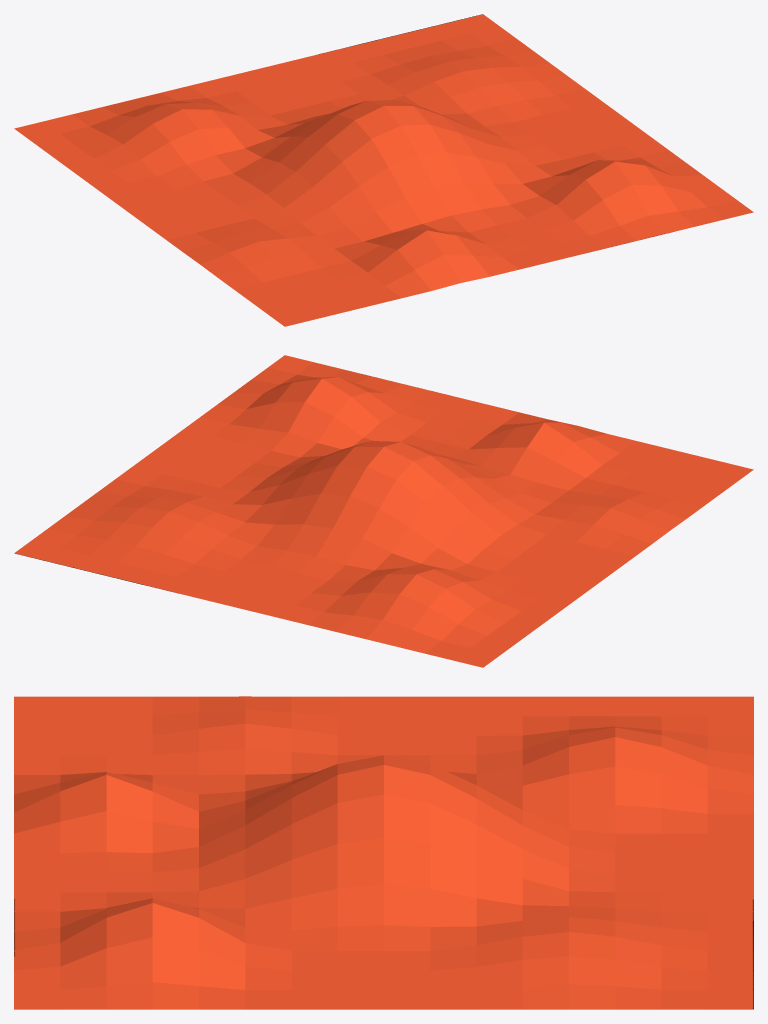
Rendered from tiles3.obj.
3 views of the same model, one above another, from view 1: azimuth 30°, elevation 25°; view 2: azimuth 150°, elevation 25°; view 3: azimuth 270°, elevation 25° (orthographic). The views are drawn at different scales.
Visible parts, largest first — view 1: Tile3_Plane.006; view 2: Tile3_Plane.006; view 3: Tile3_Plane.006.
Part boxes in pixels (x1=…): Tile3_Plane.006: x1=14, y1=14, x2=753, y2=326; Tile3_Plane.006: x1=14, y1=355, x2=753, y2=667; Tile3_Plane.006: x1=14, y1=696, x2=753, y2=1009.
Size of the model in its own units: 30 by 3.95 by 30.
1 material, 1 textured.
